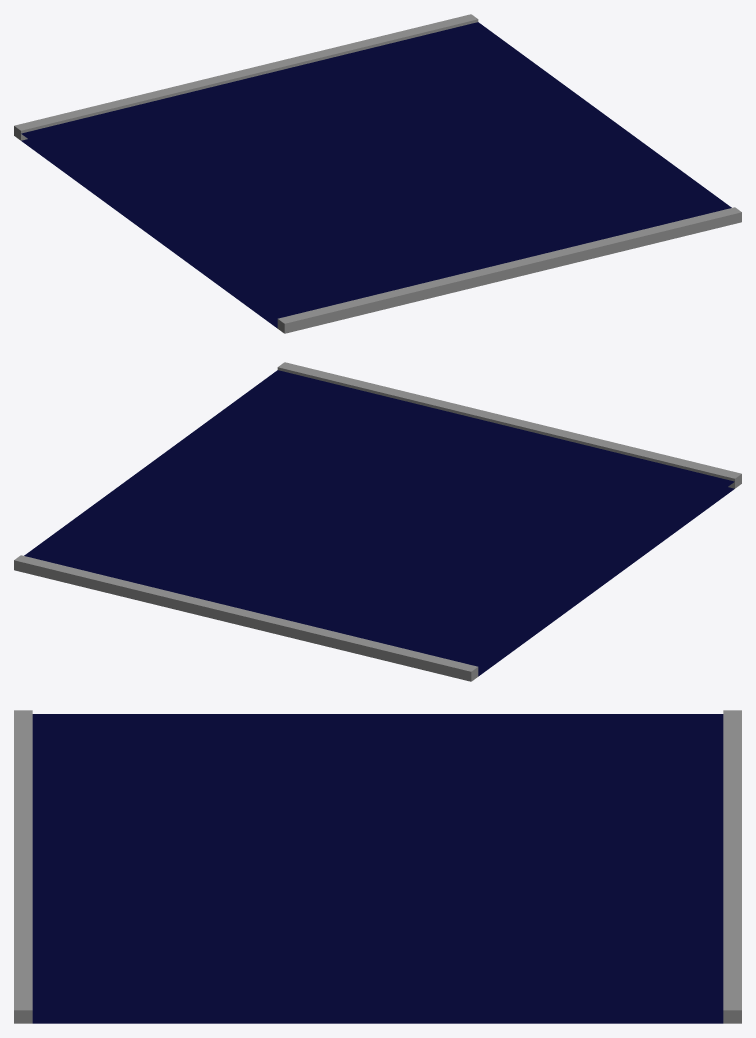
Rendered from ground.FBX.
3 views of the same model, one above another, from view 1: azimuth 30°, elevation 25°; view 2: azimuth 150°, elevation 25°; view 3: azimuth 270°, elevation 25° (orthographic). The views are drawn at different scales.
Parts seen in each view (by area): view 1: Box002; view 2: Box002; view 3: Box002.
Part boxes in pixels (bbox=[...]): Box002: bbox=[14, 14, 741, 333]; Box002: bbox=[14, 362, 741, 681]; Box002: bbox=[14, 710, 741, 1023].
Size of the model in its own units: 10 by 0.2091 by 10.25.
